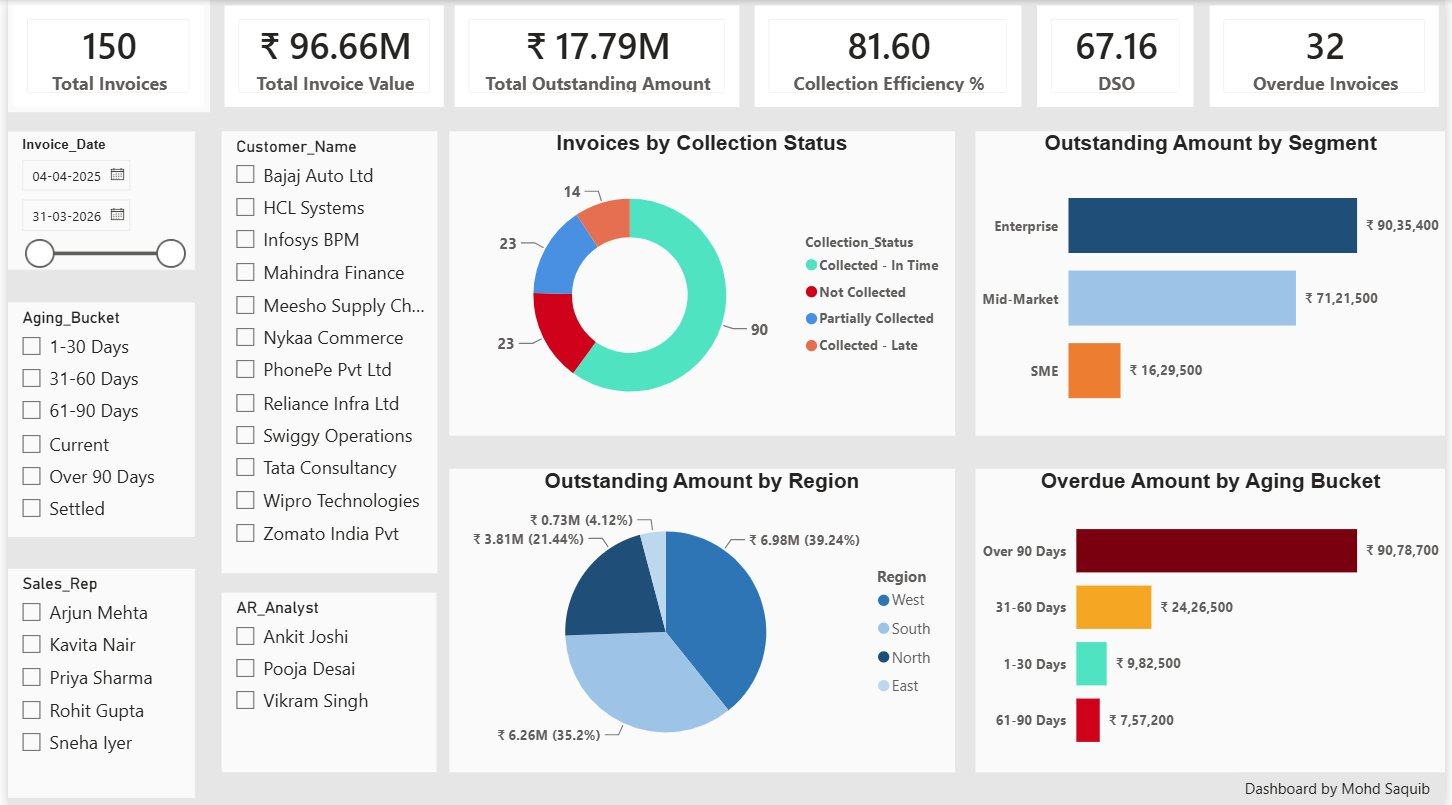

What the dashboard file says about the page in this screenshot:
{"tool":"powerbi","page":{"name":"AR Overview","canvas":[1280,720],"ordinal":0},"visuals":[{"type":"cardVisual","fields":{"Data":["Sheet2.Total Invoice Value"]},"box":[188.2,0,205.1,100.1],"z":0},{"type":"cardVisual","fields":{"Data":["Sheet2.Total Outstanding Amount"]},"box":[393.2,0,263,100.1],"z":1000},{"type":"cardVisual","fields":{"Data":["Sheet2.Overdue Invoices"]},"box":[1065.3,0,214.7,100.1],"z":2000},{"type":"cardVisual","fields":{"Data":["Sheet2.Collection Efficiency %"]},"box":[660.3,0,247,100.3],"z":3000},{"type":"cardVisual","fields":{"Data":["Sheet2.DSO"]},"box":[911.5,0,149.6,100.1],"z":4000},{"type":"cardVisual","fields":{"Data":["Sheet2.Total Invoices"]},"box":[0,0,179.8,100.3],"z":5000},{"type":"barChart","title":"Overdue Amount by Aging Bucket","fields":{"Category":["Sheet2.Aging_Bucket"],"Y":["Sum(Sheet2.Overdue Amount)"]},"box":[861.4,417.4,418.6,270.2],"z":6000},{"type":"donutChart","title":"Invoices by Collection Status","fields":{"Y":["CountNonNull(Sheet2.Collection_Status)"],"Category":["Sheet2.Collection_Status"]},"box":[393.3,117,450,271.4],"z":7000},{"type":"clusteredBarChart","title":"Outstanding Amount by Segment","fields":{"Category":["Sheet2.Customer_Segment"],"Y":["Sum(Sheet2.Outstanding Amount)"]},"box":[861.4,117,418.6,271.4],"z":8000},{"type":"pieChart","title":"Outstanding Amount by Region","fields":{"Category":["Sheet2.Region"],"Y":["Sum(Sheet2.Outstanding Amount)"]},"box":[393.3,417.4,450,270.2],"z":9000},{"type":"slicer","fields":{"Values":["Sheet2.Invoice_Date"]},"box":[0,117,166.5,123.1],"z":10000},{"type":"slicer","fields":{"Values":["Sheet2.Aging_Bucket"]},"box":[0,269,166.5,208.7],"z":11000},{"type":"slicer","fields":{"Values":["Sheet2.Customer_Name"]},"box":[190.6,117,191.8,393.3],"z":12000},{"type":"slicer","fields":{"Values":["Sheet2.Sales_Rep"]},"box":[0,506.7,166.5,203.9],"z":13000},{"type":"slicer","fields":{"Values":["Sheet2.AR_Analyst"]},"box":[190.4,527.6,191.5,160.3],"z":14000},{"type":"textbox","box":[1096.7,687.7,183.4,32.6],"z":15000}]}

Visuals, with their boxes in screenshot pixels (x1, y1, x2, y2), scaled from the page's 1280x720 canvas onto the 1452x805 screenshot:
cardVisual - Sheet2.Total Invoice Value: {"left": 213, "top": 0, "right": 446, "bottom": 112}
cardVisual - Sheet2.Total Outstanding Amount: {"left": 446, "top": 0, "right": 744, "bottom": 112}
cardVisual - Sheet2.Overdue Invoices: {"left": 1208, "top": 0, "right": 1451, "bottom": 112}
cardVisual - Sheet2.Collection Efficiency %: {"left": 749, "top": 0, "right": 1029, "bottom": 112}
cardVisual - Sheet2.DSO: {"left": 1034, "top": 0, "right": 1204, "bottom": 112}
cardVisual - Sheet2.Total Invoices: {"left": 0, "top": 0, "right": 204, "bottom": 112}
"Overdue Amount by Aging Bucket" barChart: {"left": 977, "top": 467, "right": 1451, "bottom": 769}
"Invoices by Collection Status" donutChart: {"left": 446, "top": 131, "right": 957, "bottom": 434}
"Outstanding Amount by Segment" clusteredBarChart: {"left": 977, "top": 131, "right": 1451, "bottom": 434}
"Outstanding Amount by Region" pieChart: {"left": 446, "top": 467, "right": 957, "bottom": 769}
slicer - Sheet2.Invoice_Date: {"left": 0, "top": 131, "right": 189, "bottom": 268}
slicer - Sheet2.Aging_Bucket: {"left": 0, "top": 301, "right": 189, "bottom": 534}
slicer - Sheet2.Customer_Name: {"left": 216, "top": 131, "right": 434, "bottom": 571}
slicer - Sheet2.Sales_Rep: {"left": 0, "top": 567, "right": 189, "bottom": 794}
slicer - Sheet2.AR_Analyst: {"left": 216, "top": 590, "right": 433, "bottom": 769}
textbox: {"left": 1244, "top": 769, "right": 1451, "bottom": 804}
